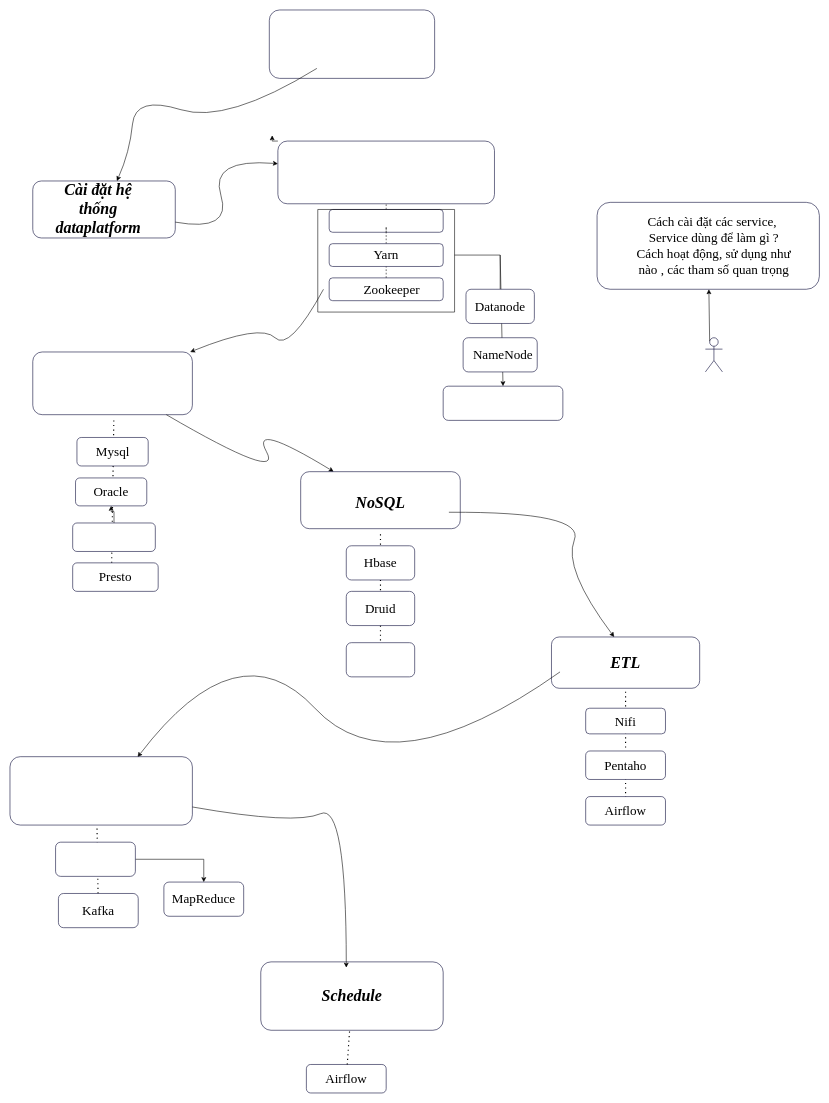
Some shapes in this 829 by 1103 pixel diagram are drawn without their labels. The centre of each missing label's shape, as x and y in pixels:
"Actor" belongs at point 713,354.
"Cài đặt, hiểu về các service lưu trữ, quản lý trên ambari server" belongs at point 385,172.
"Data processing" belongs at point 100,790.
"Gem DataPlatform Roadmap" belongs at point 352,43.
"HDFS" belongs at point 386,220.
"HiveQL" belongs at point 113,536.
"MongoDB" belongs at point 380,659.
"ResourceManager" belongs at point 503,403.
"Spark" belongs at point 95,859.
"SQL" belongs at point 112,383.
